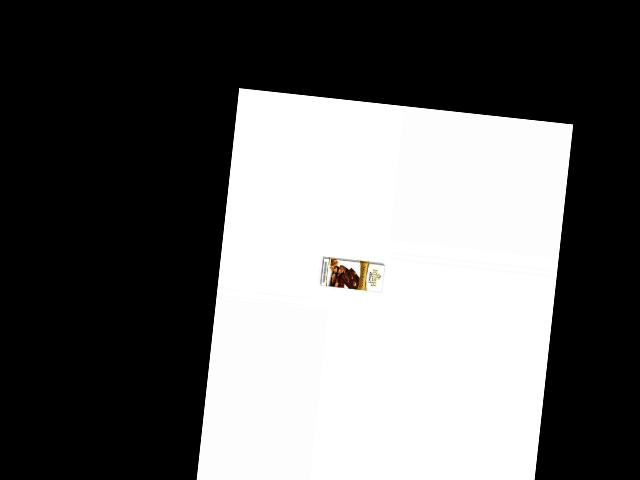chocolate: (319, 251, 389, 299)
